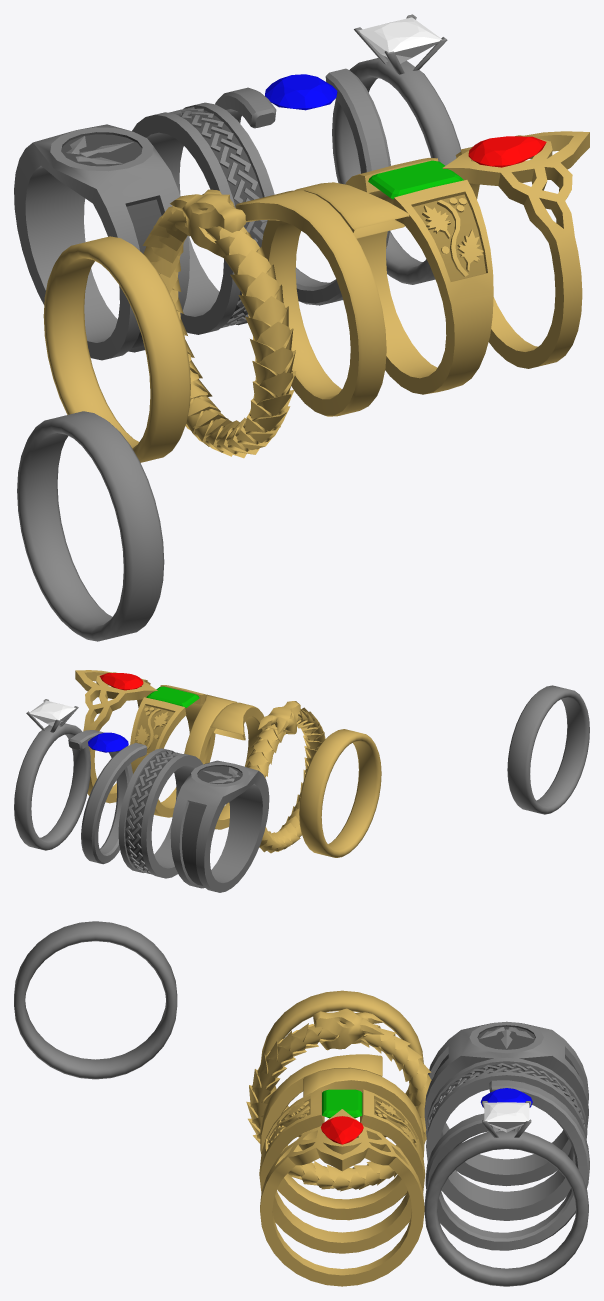
Rendered from ring.fbx.
3 renders of one model, top to bottom at view 1: azimuth 30°, elevation 25°; view 2: azimuth 150°, elevation 25°; view 3: azimuth 270°, elevation 25°, orthographic. The views are drawn at different scales.
Parts seen in each view (by area): view 1: SignetRing, SilverBand, EmeraldRing, GoldRing, Ouroboros, GoldBand, RubyRing, SilverRing, DiamondRing, SapphireRing; view 2: SignetRing, SilverBand, GoldBand, SilverRing, DiamondRing, SapphireRing, Ouroboros, EmeraldRing, GoldRing, RubyRing; view 3: RubyRing, EmeraldRing, Ouroboros, SignetRing, DiamondRing, SilverRing, SilverBand, GoldRing, SapphireRing, GoldBand.
Part boxes in pixels (box(x1,y1,x2,y2)): SignetRing: box(14, 124, 189, 360); SilverBand: box(17, 411, 164, 641); EmeraldRing: box(345, 158, 493, 394); GoldRing: box(235, 182, 409, 416); Ouroboros: box(142, 189, 296, 458); GoldBand: box(43, 236, 190, 462); RubyRing: box(442, 131, 589, 368); SilverRing: box(132, 102, 274, 334); DiamondRing: box(332, 14, 460, 284); SapphireRing: box(215, 68, 390, 305); SignetRing: box(170, 760, 269, 892); SilverBand: box(507, 685, 589, 814); GoldBand: box(299, 729, 381, 857); SilverRing: box(118, 748, 202, 878); DiamondRing: box(14, 699, 90, 850); SapphireRing: box(68, 730, 147, 864); Ouroboros: box(246, 701, 325, 853); EmeraldRing: box(130, 685, 215, 817); GoldRing: box(184, 694, 266, 829); RubyRing: box(75, 670, 157, 803); RubyRing: box(260, 1109, 424, 1286); EmeraldRing: box(259, 1089, 425, 1253); Ouroboros: box(246, 1008, 431, 1191); SignetRing: box(424, 1021, 588, 1186); DiamondRing: box(424, 1101, 588, 1286); SilverRing: box(426, 1057, 587, 1220); SilverBand: box(14, 921, 177, 1079); GoldRing: box(260, 1054, 424, 1220); SapphireRing: box(425, 1080, 589, 1250); GoldBand: box(260, 990, 423, 1137).
Bounding box in the file's own units: 694 × 251 × 701.
